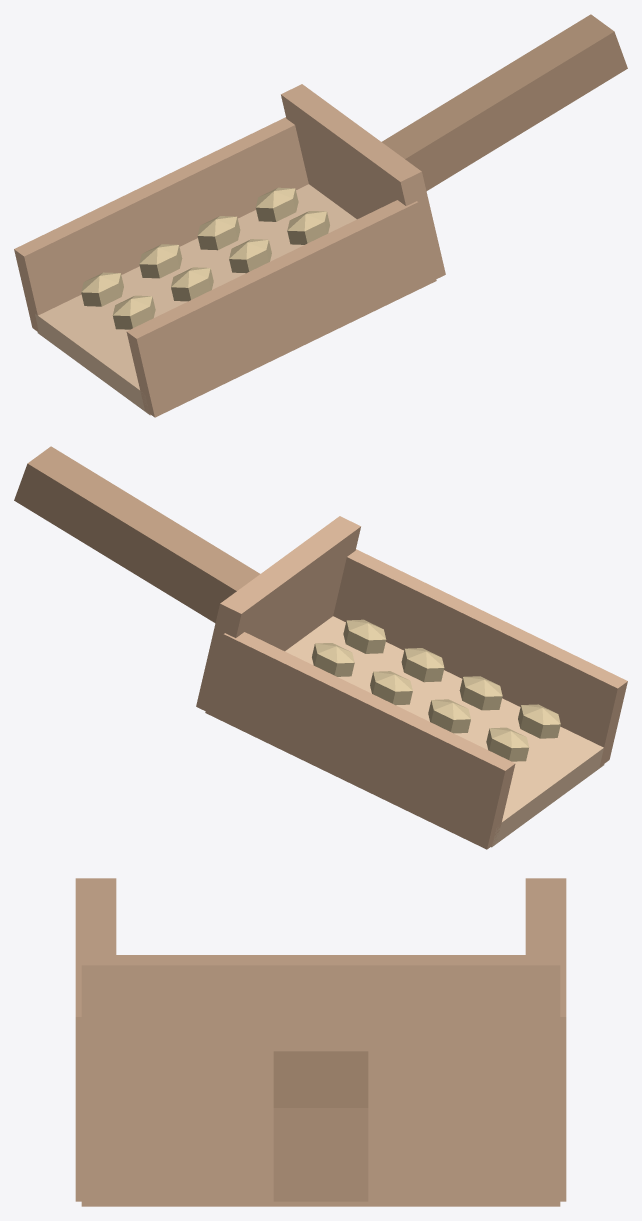
The model's file is crafted-tool-feed-scoop-4.glb.
The picture shows the model from 3 angles, top to bottom: view 1: azimuth 30°, elevation 25°; view 2: azimuth 150°, elevation 25°; view 3: azimuth 270°, elevation 25°; orthographic projection. The views are drawn at different scales.
Visible parts, largest first — view 1: side-1, side, handle, floor, back, grain-1, grain, grain-3, grain-2, grain-4, grain-5, grain-7 (+1 smaller); view 2: side, side-1, handle, floor, back, grain-9, grain-8, grain-11, grain-10, grain-4, grain-5, grain-7 (+1 smaller); view 3: back, handle, side, side-1.
Boxes of the visible parts, x1,y1,x2,y2 form: side-1: (126,200,436,417); side: (14,117,308,332); handle: (382,14,627,191); floor: (35,184,356,415); back: (281,84,445,278); grain-1: (139,244,182,278); grain: (81,272,123,306); grain-3: (255,187,298,221); grain-2: (197,216,240,250); grain-4: (112,295,155,329); grain-5: (171,267,213,301); grain-7: (287,211,329,244); side: (205,632,515,849); side-1: (333,549,627,766); handle: (14,446,259,623); floor: (285,616,604,847); back: (196,516,360,710); grain-9: (459,676,502,710); grain-8: (518,704,560,738); grain-11: (343,619,386,653); grain-10: (401,648,444,682); grain-4: (486,727,529,761); grain-5: (428,699,470,733); grain-7: (312,643,354,676); back: (81,955,560,1206); handle: (273,1051,368,1201); side: (525,878,566,1201); side-1: (75,878,116,1201).
Size of the model in its own units: 0.8607 by 0.3457 by 0.338.
